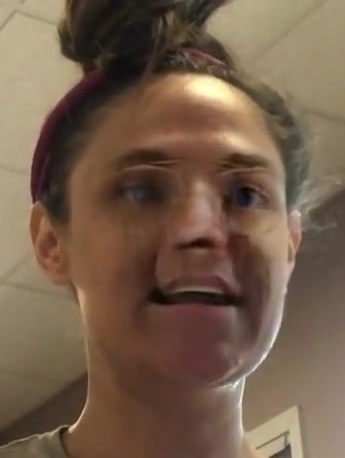n_f: (165, 175, 228, 254)
